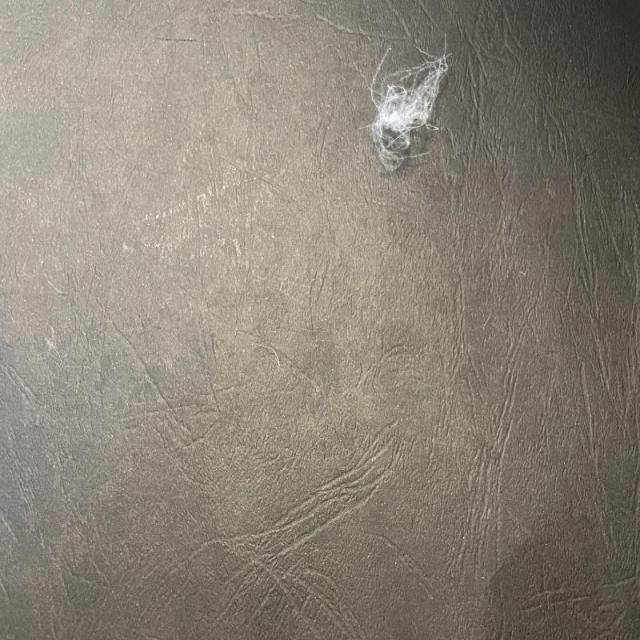feather: (368, 35, 455, 174)
